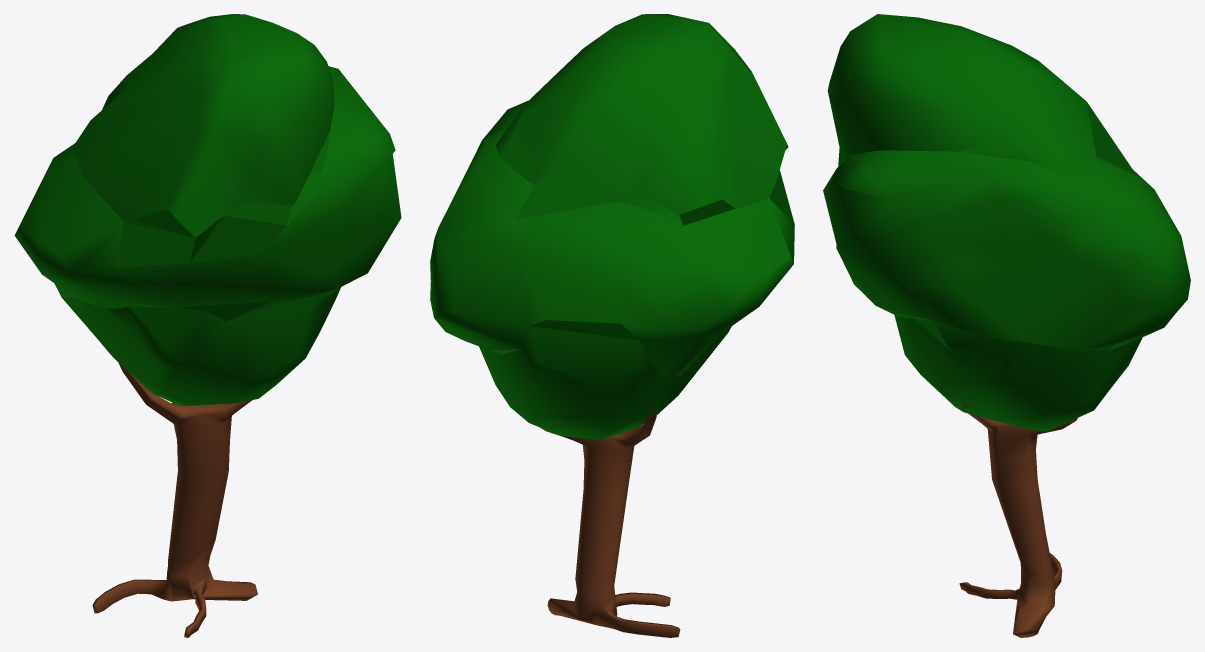
Rendered from Tree3 Myles Lam.fbx.
The picture shows the model from 3 angles, left to right: view 1: azimuth 30°, elevation 25°; view 2: azimuth 150°, elevation 25°; view 3: azimuth 270°, elevation 25°; orthographic projection. The views are drawn at different scales.
Parts seen in each view (by area): view 1: TreeTop0010, pCylinder4; view 2: TreeTop0010, pCylinder4; view 3: TreeTop0010, pCylinder4.
Part boxes in pixels (x1,y1,x2,y2): TreeTop0010: [14, 14, 401, 406]; pCylinder4: [92, 362, 257, 637]; TreeTop0010: [430, 14, 794, 439]; pCylinder4: [541, 411, 680, 637]; TreeTop0010: [823, 14, 1190, 431]; pCylinder4: [959, 403, 1078, 637].
Bounding box in the file's own units: 32.5 × 61.52 × 35.11.
